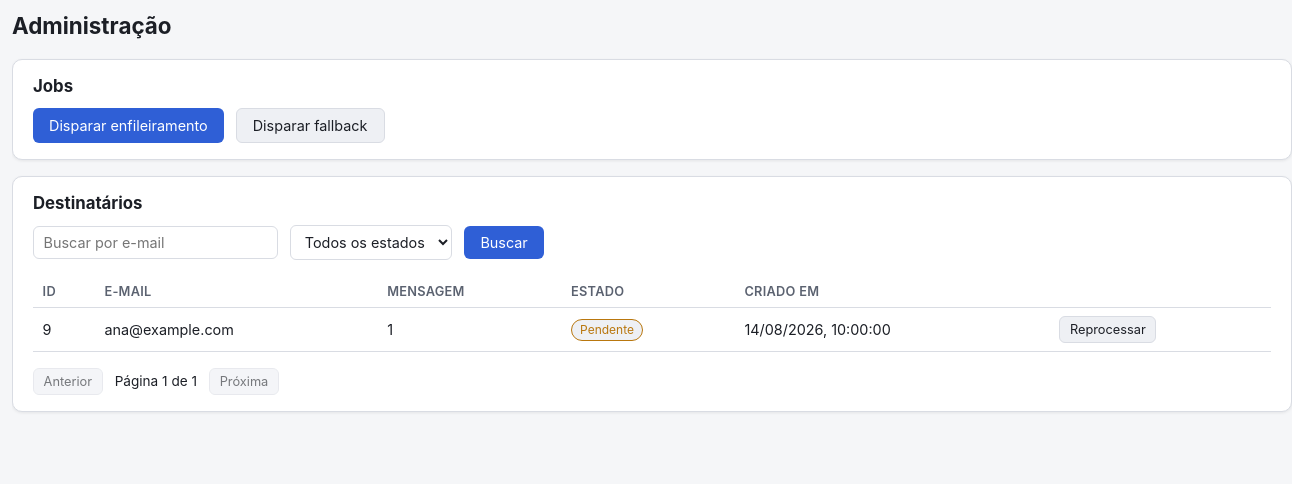
Admin page › clicks Reprocessar and shows success message
Check: the text "ana@example.com" is shown, box top-left (95, 308), bottom-right (378, 352)
Click the button "Reprocessar". click: (1108, 330)
box: top-left (1059, 316), bottom-right (1156, 343)
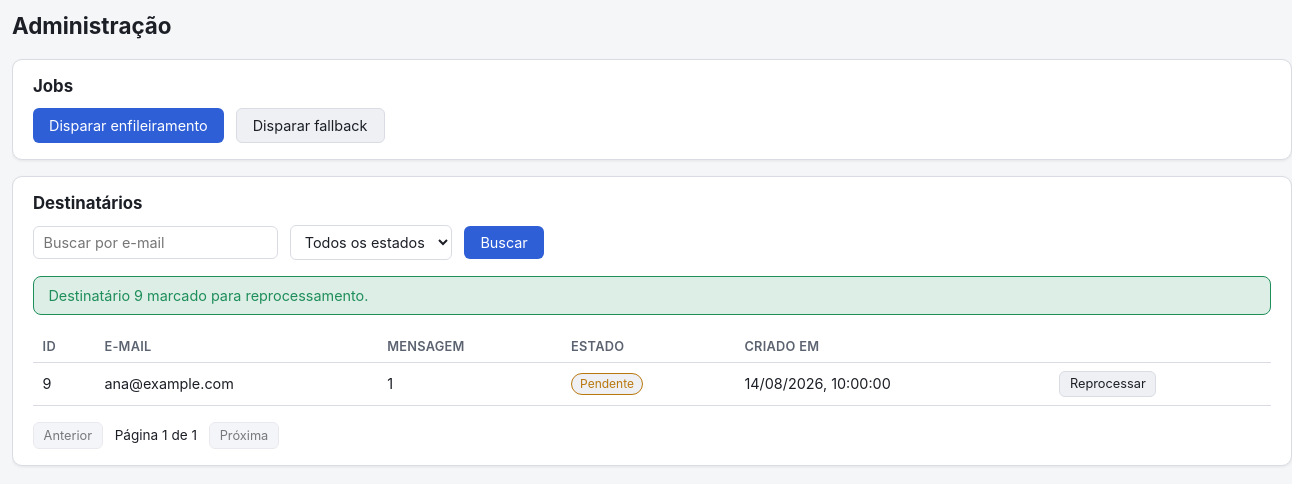
Check: the text "Destinatário 9 marcado para reprocessamento." is shown, box top-left (33, 276), bottom-right (1271, 315)
